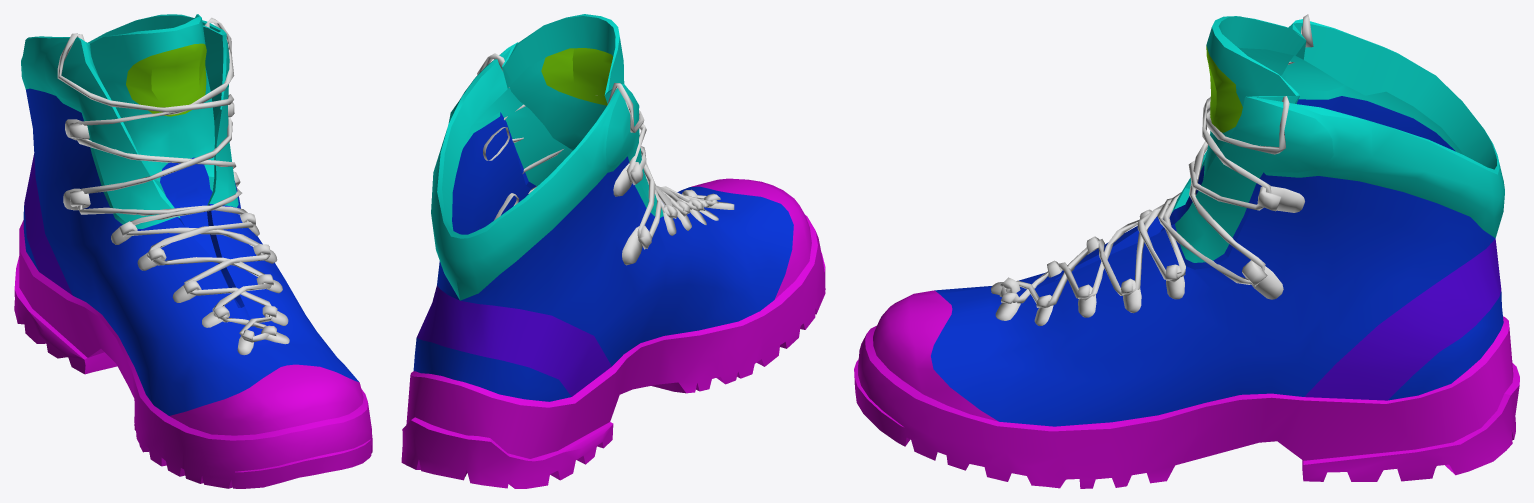
File: boot.fbx
3 views of the same model, side by side, from view 1: azimuth 30°, elevation 25°; view 2: azimuth 150°, elevation 25°; view 3: azimuth 270°, elevation 25° (orthographic). The views are drawn at different scales.
Visible parts, largest first — view 1: boot, line, Detail; view 2: boot, Detail, line; view 3: boot, line, Detail.
Boxes of the visible parts, x1,y1,x2,y2 form: boot: (14,14,372,488); line: (57,17,272,342); Detail: (63,102,289,355); boot: (401,14,825,488); Detail: (483,127,734,265); line: (477,53,718,248); boot: (854,16,1519,488); line: (999,14,1313,307); Detail: (991,186,1304,325).
Bounding box in the file's own units: 150 × 272 × 399.
